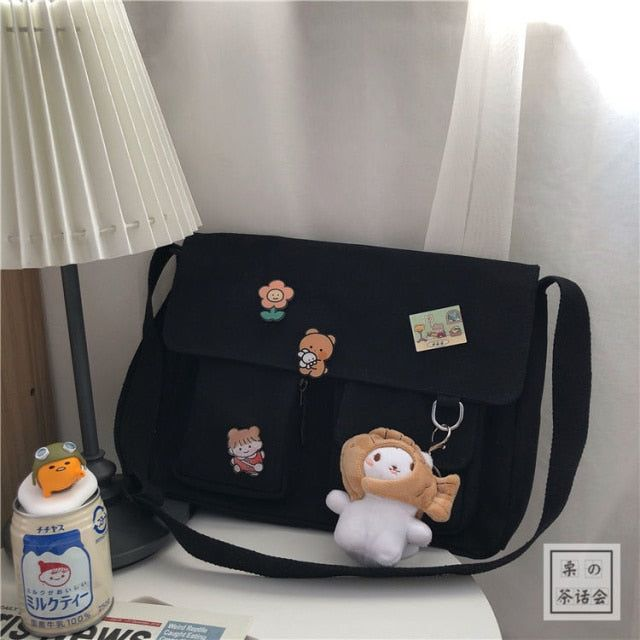nylon: (115, 233, 592, 580)
